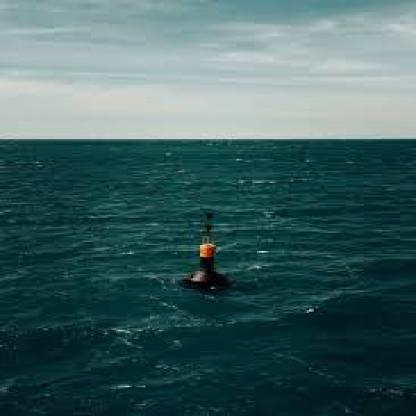buoy: (177, 210, 232, 294)
